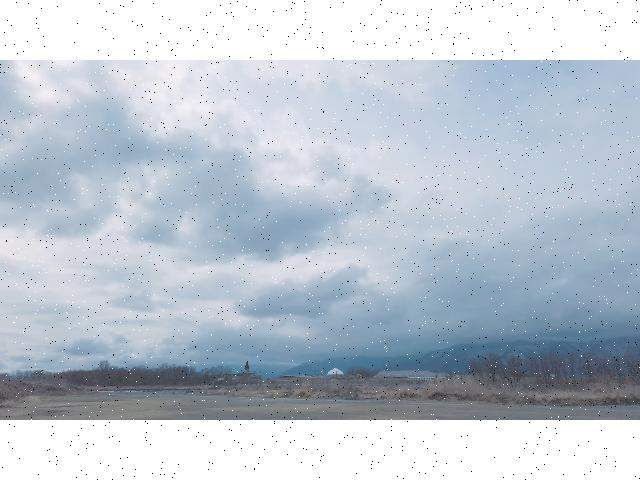Anti-Drone: (275, 289, 287, 301)
